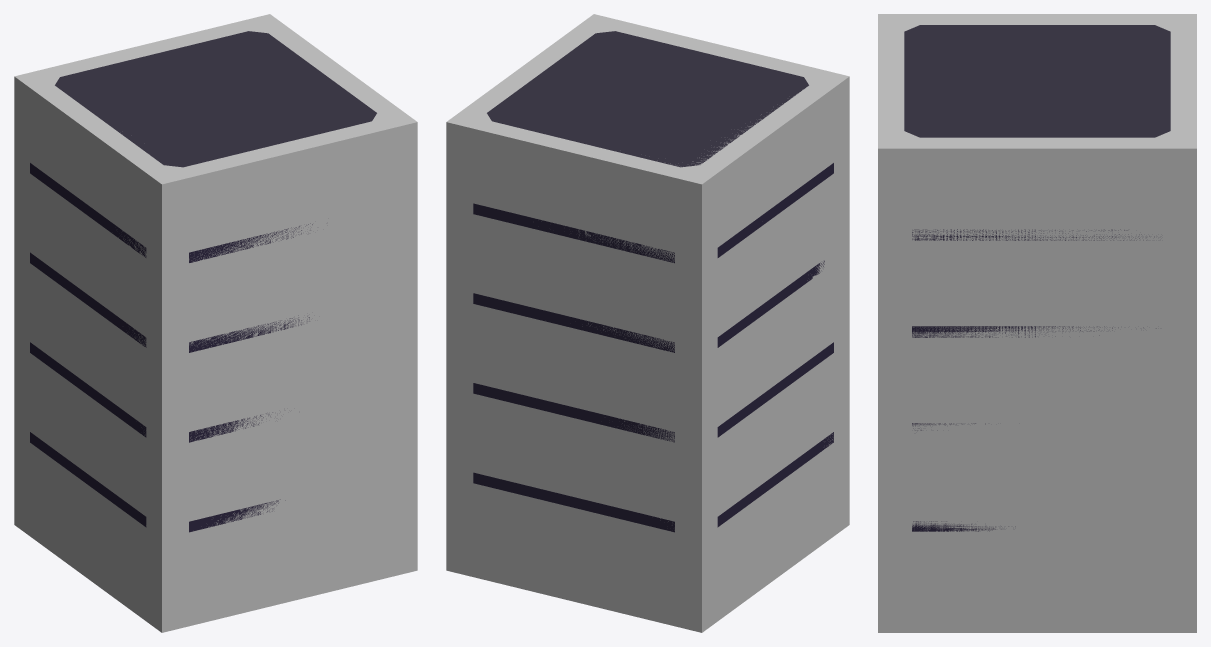
Rendered from SM_Skyscraper_01.fbx.
3 views of the same model, side by side, from view 1: azimuth 30°, elevation 25°; view 2: azimuth 150°, elevation 25°; view 3: azimuth 270°, elevation 25° (orthographic). The views are drawn at different scales.
Visible parts, largest first — view 1: SM_Skyscraper_01_ConvexHulls, SM_Skyscraper_01; view 2: SM_Skyscraper_01_ConvexHulls, SM_Skyscraper_01; view 3: SM_Skyscraper_01_ConvexHulls, SM_Skyscraper_01.
Part boxes in pixels (x1,y1,x2,y2): SM_Skyscraper_01_ConvexHulls: (14,14,417,632); SM_Skyscraper_01: (30,31,376,532); SM_Skyscraper_01_ConvexHulls: (446,14,849,632); SM_Skyscraper_01: (473,31,833,532); SM_Skyscraper_01_ConvexHulls: (878,14,1196,632); SM_Skyscraper_01: (904,25,1170,531).
Size of the model in its own units: 895 by 895 by 1500.
